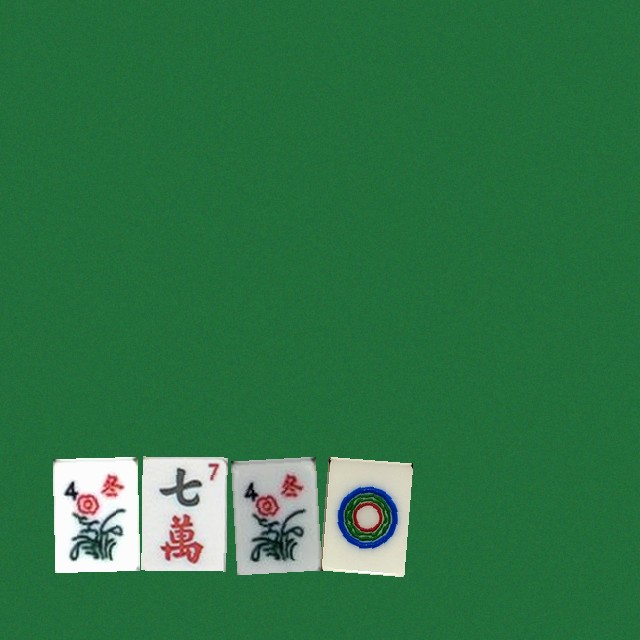tile: (52, 456, 137, 570), (141, 456, 226, 570), (230, 456, 315, 570), (319, 456, 404, 570)
